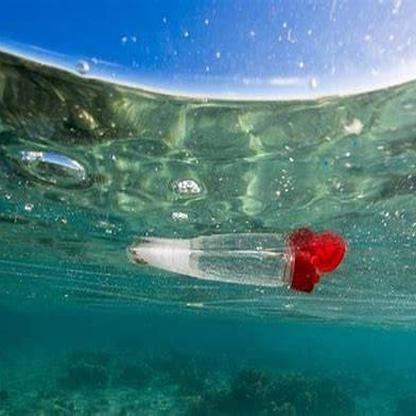plastic bottle: (130, 231, 345, 294)
